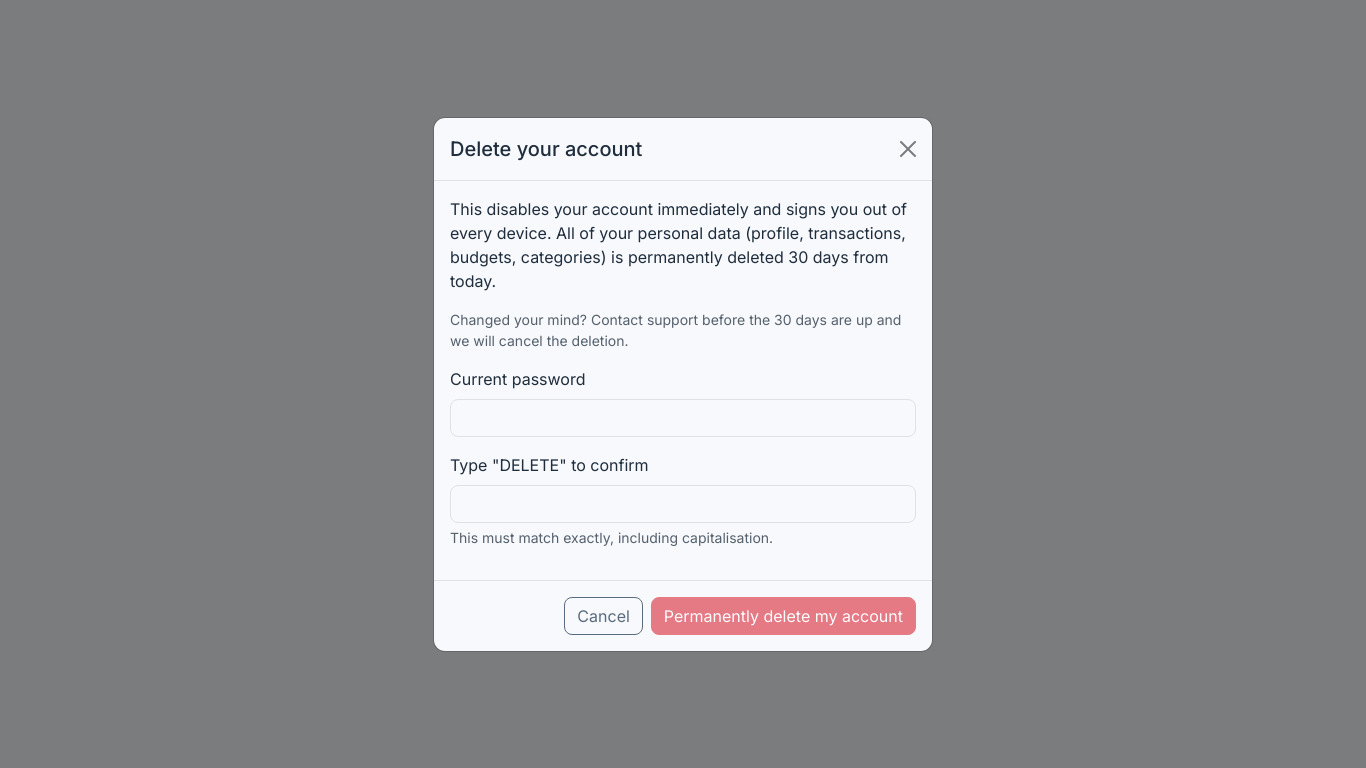
it: DeleteAccountModal › shows an inline password error on a wrong password (422) without logging the user out
Type "wrong-password" into the password field labelled "Current password". click: (683, 418)
box: [450, 398, 916, 436]
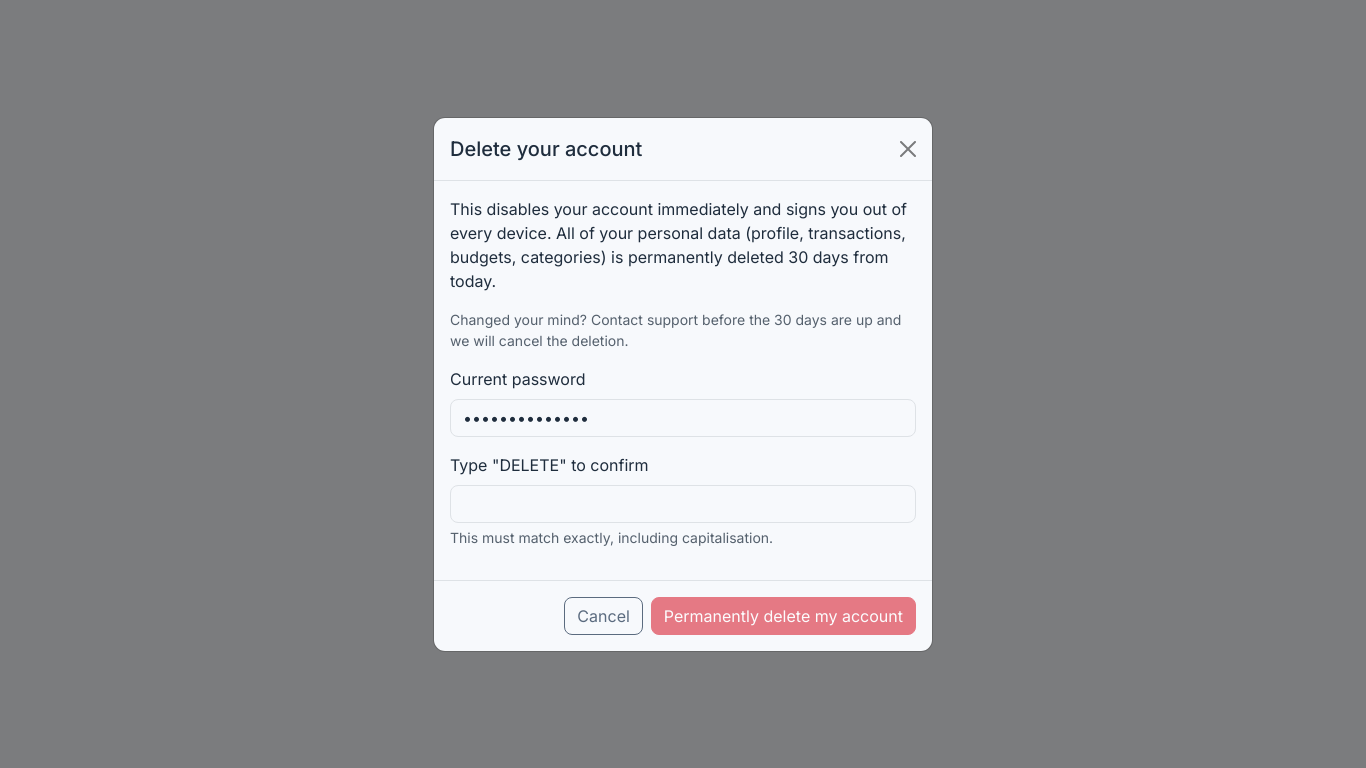
Type "DELETE" into the field labelled "Type \"DELETE\" to confirm". click: (683, 504)
box: [450, 484, 916, 522]
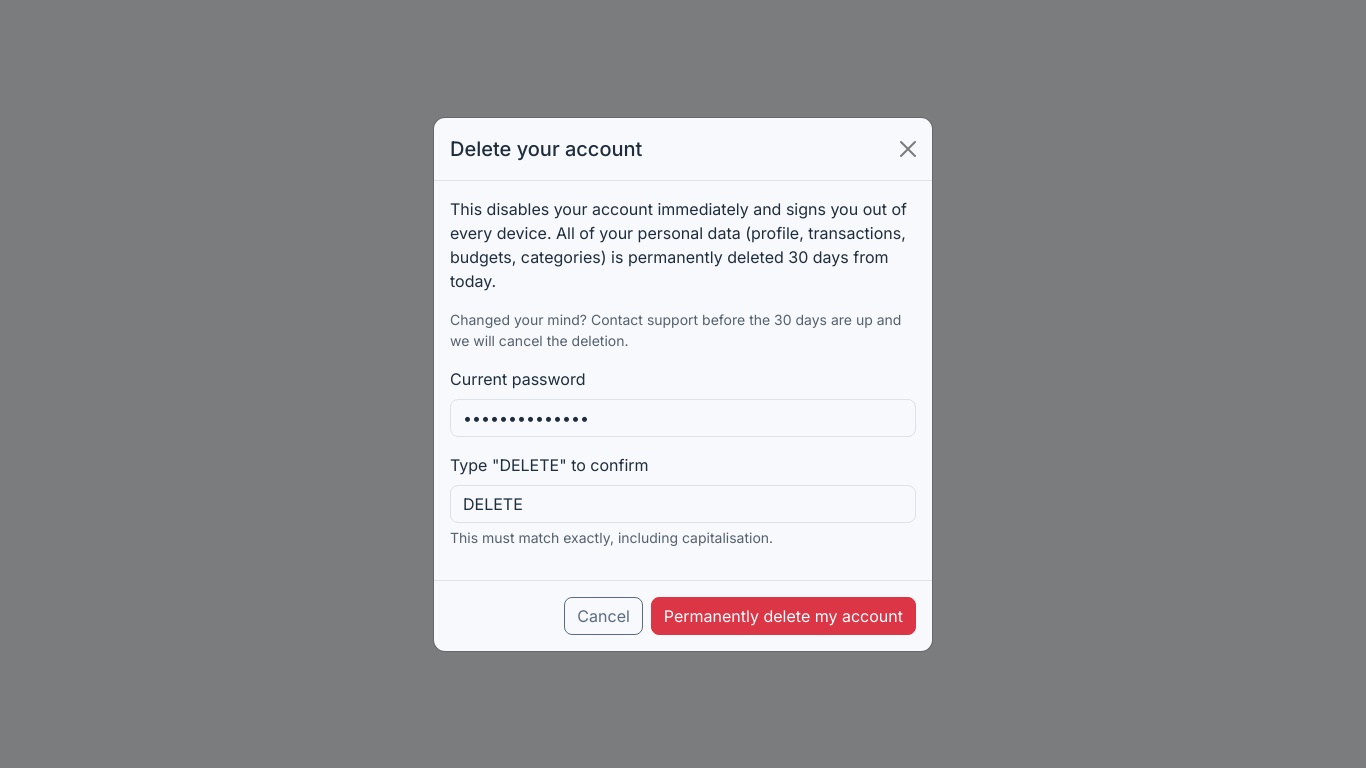
Click the button "Permanently delete my account". click: (783, 616)
box: [651, 596, 916, 634]
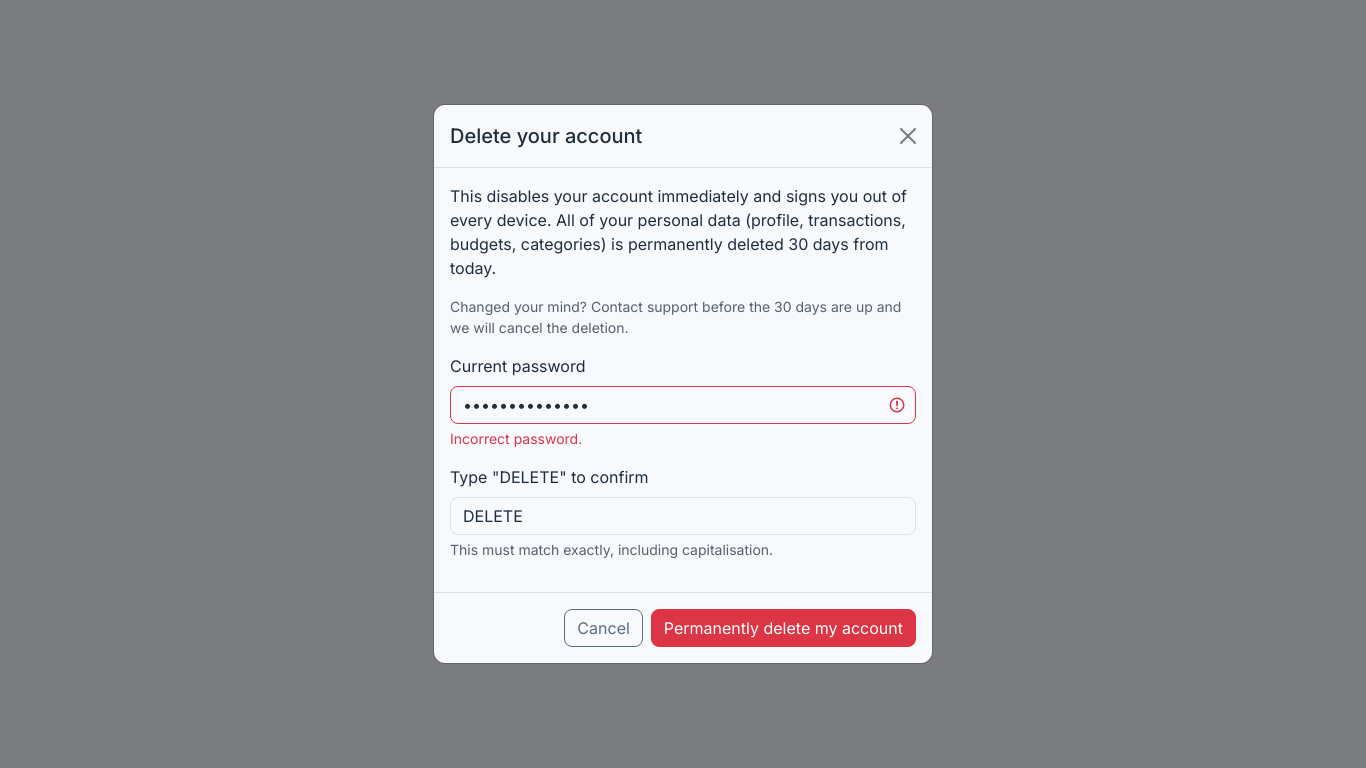
Expected: the text "Incorrect password." is shown, [450, 430, 582, 447]
